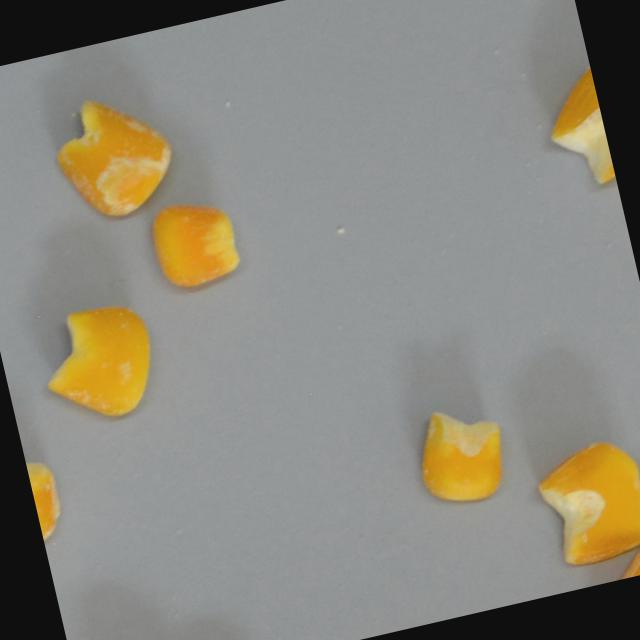no_canjicado: (407, 395, 515, 511), (146, 193, 244, 292)
pelicula: (43, 82, 185, 229), (43, 293, 161, 422), (527, 438, 640, 572), (544, 67, 614, 184), (20, 437, 77, 545), (590, 555, 640, 585)
